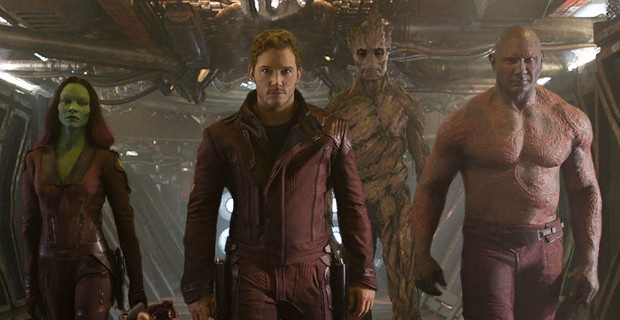bad: (496, 46, 540, 89), (256, 60, 299, 103), (53, 90, 89, 126)
